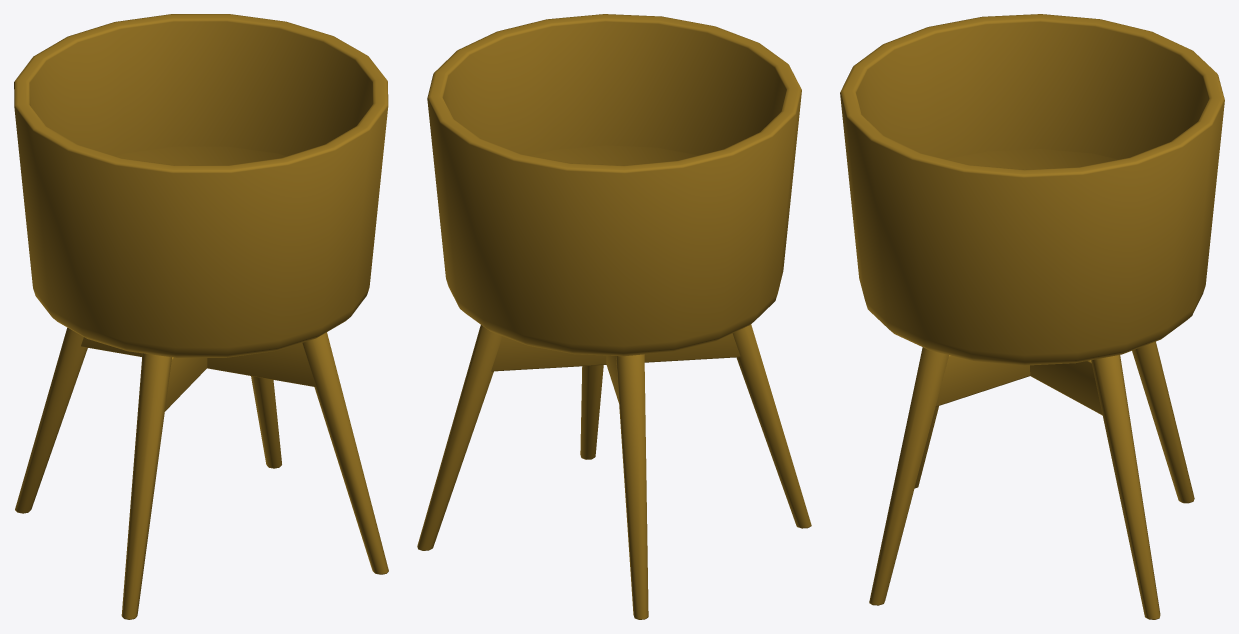
The model's file is Pot_1.FBX.
3 renders of one model, left to right at view 1: azimuth 30°, elevation 25°; view 2: azimuth 150°, elevation 25°; view 3: azimuth 270°, elevation 25°, orthographic. The views are drawn at different scales.
Visible parts, largest first — view 1: Pot_1; view 2: Pot_1; view 3: Pot_1.
Boxes of the visible parts, box(x1,y1,x2,y2) form: Pot_1: box(14, 14, 388, 619); Pot_1: box(417, 14, 811, 619); Pot_1: box(840, 14, 1224, 619).
Size of the model in its own units: 32.92 by 43.13 by 32.92.
